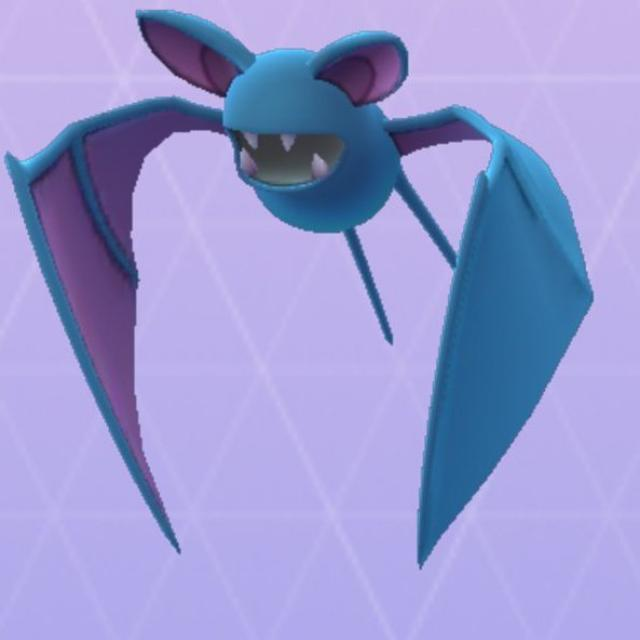Zubat: (66, 1, 526, 349)
